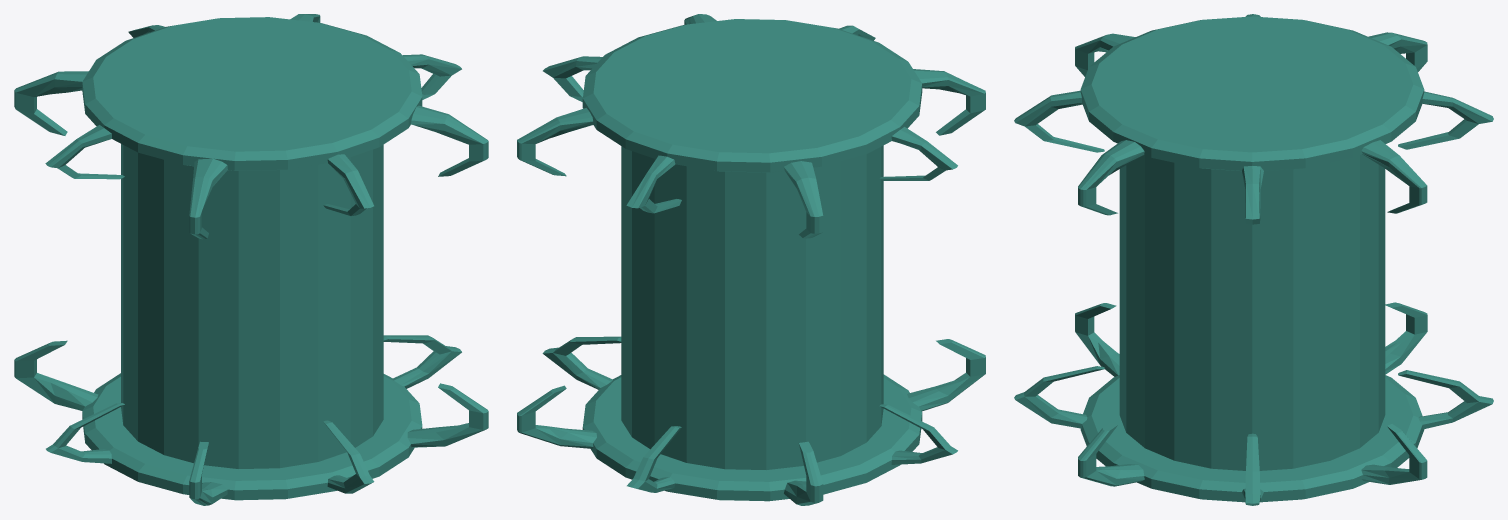
File: Boss Room Furniture.fbx
The picture shows the model from 3 angles, left to right: view 1: azimuth 30°, elevation 25°; view 2: azimuth 150°, elevation 25°; view 3: azimuth 270°, elevation 25°; orthographic projection.
Visible parts, largest first — view 1: Cryo_Chamber; view 2: Cryo_Chamber; view 3: Cryo_Chamber.
Part boxes in pixels (left/top/right/bottom): Cryo_Chamber: left=14, top=14, right=488, bottom=505; Cryo_Chamber: left=517, top=14, right=985, bottom=505; Cryo_Chamber: left=1014, top=14, right=1493, bottom=505.
Bounding box in the file's own units: 27.87 × 22.5 × 27.93.
